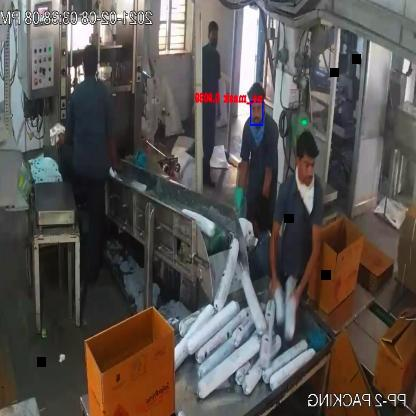no_glove: (288, 213, 326, 320), (264, 198, 292, 304)
